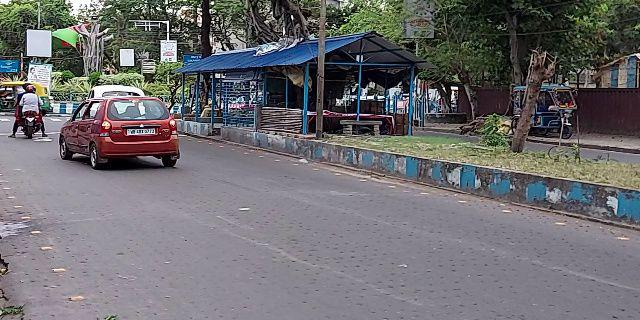Car: (58, 93, 193, 168)
Motorbike: (20, 83, 48, 145)
